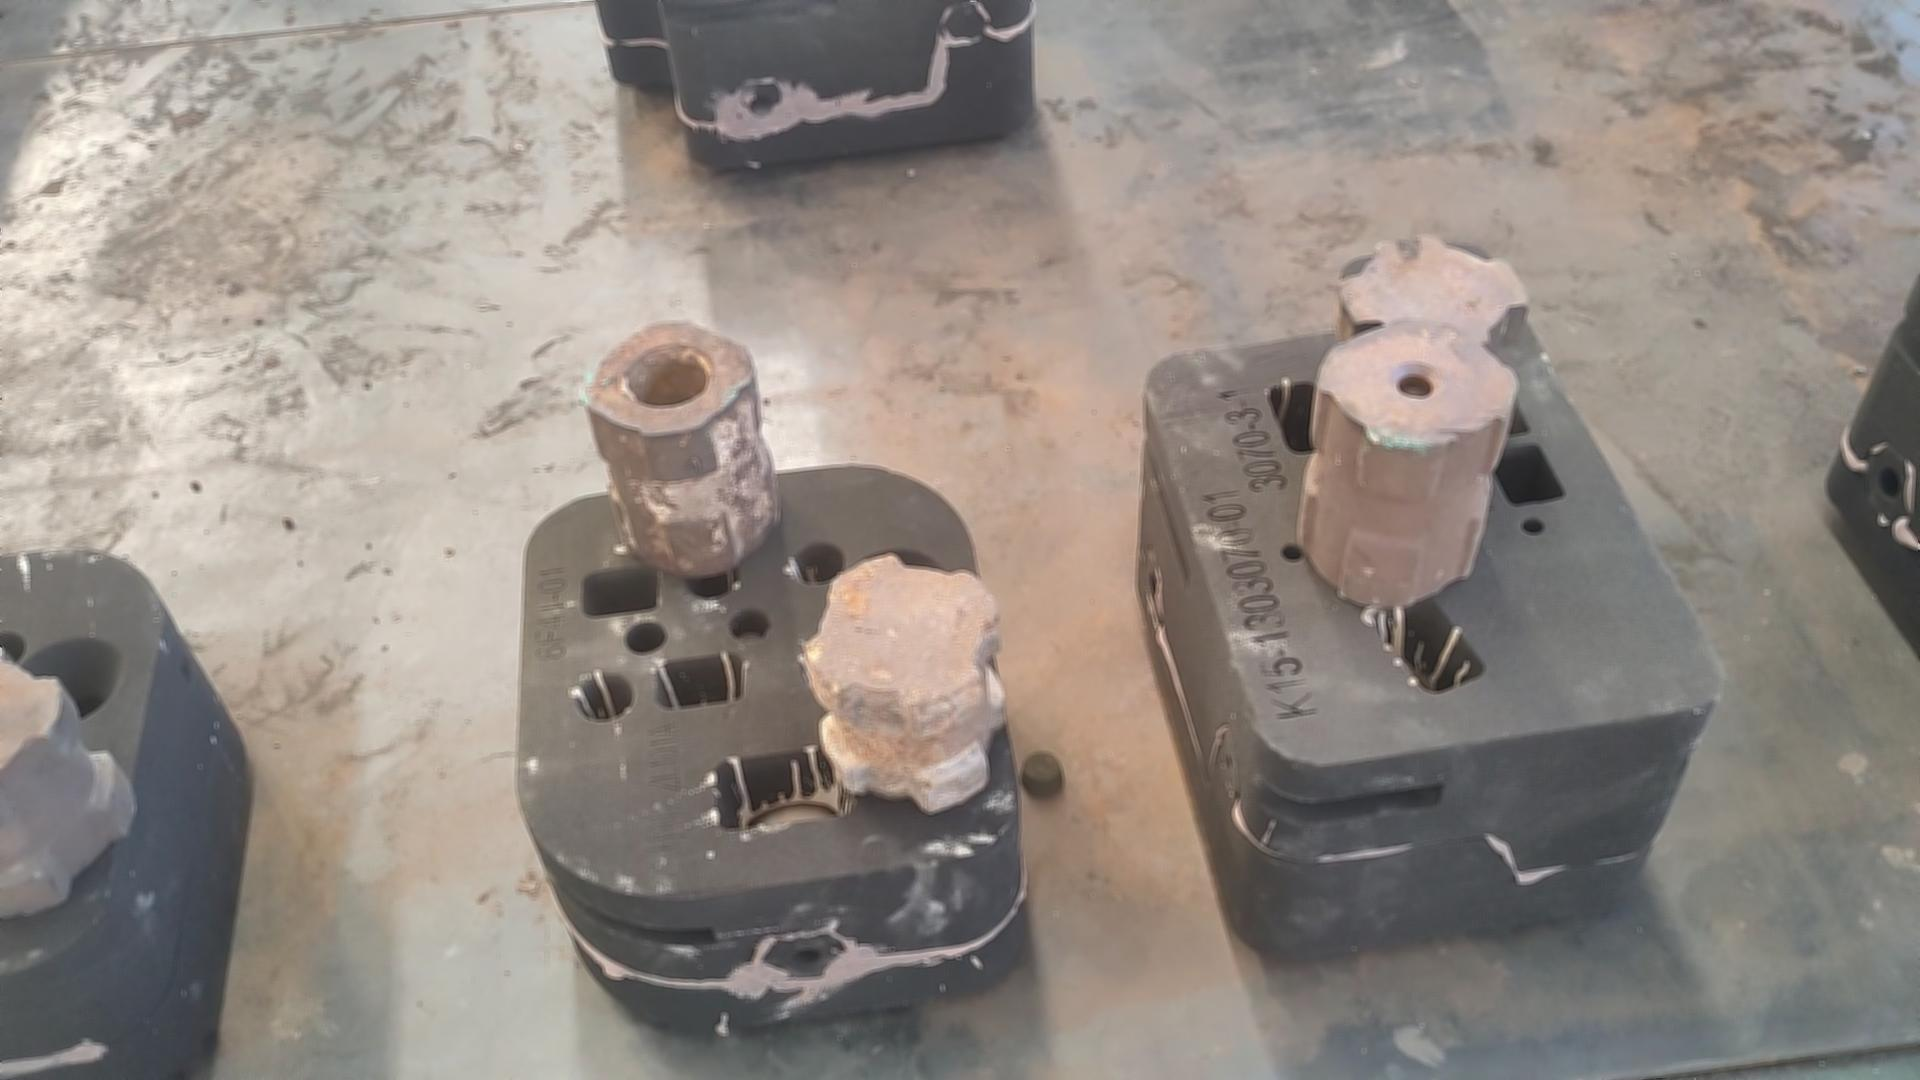pouring hole: (831, 549, 956, 625), (16, 636, 123, 721), (1369, 260, 1489, 331)
